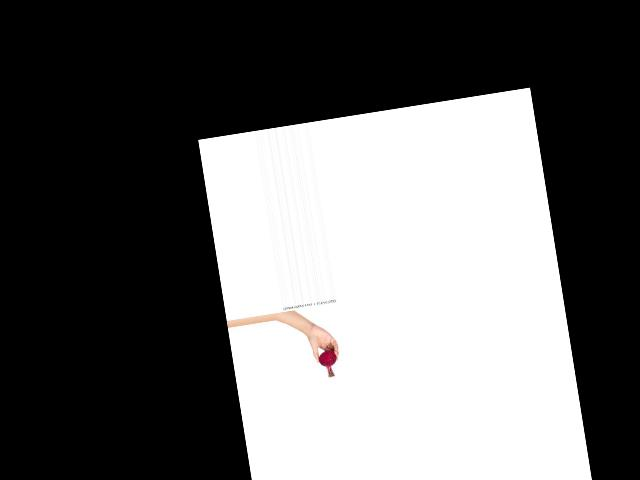beet: (317, 349, 340, 378)
